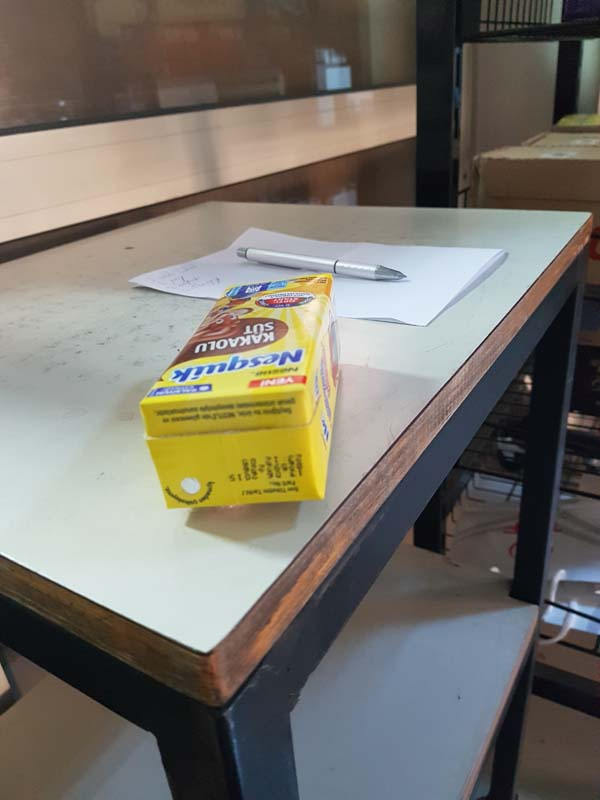nesquick200ml: (134, 276, 335, 512)
